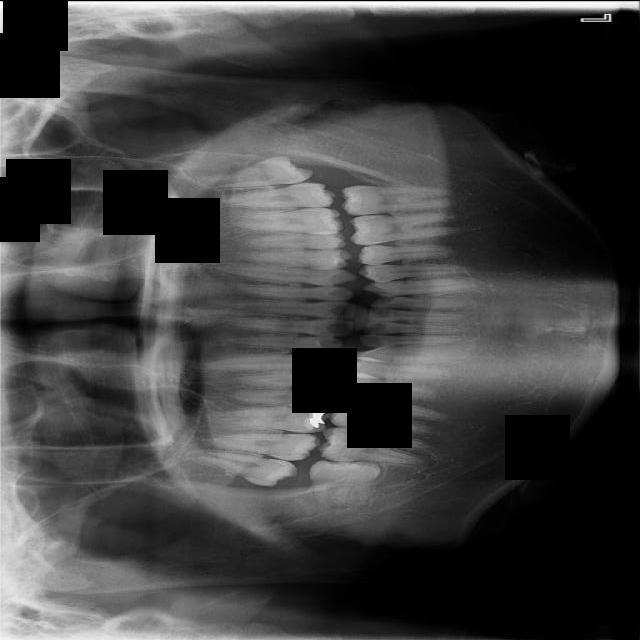3M ESPE Implant: (185, 443, 300, 491)
52: (284, 400, 331, 434), (271, 433, 320, 460)
73: (578, 24, 588, 28)
BioHorizons Implant: (214, 181, 336, 207)
BioLife Implant: (191, 152, 313, 190)
Blue Sky Bio Implant: (339, 184, 453, 216)
Caries: (194, 432, 321, 461)
Implant: (315, 424, 431, 466)
Keystone Dental Implant: (310, 458, 381, 511)
